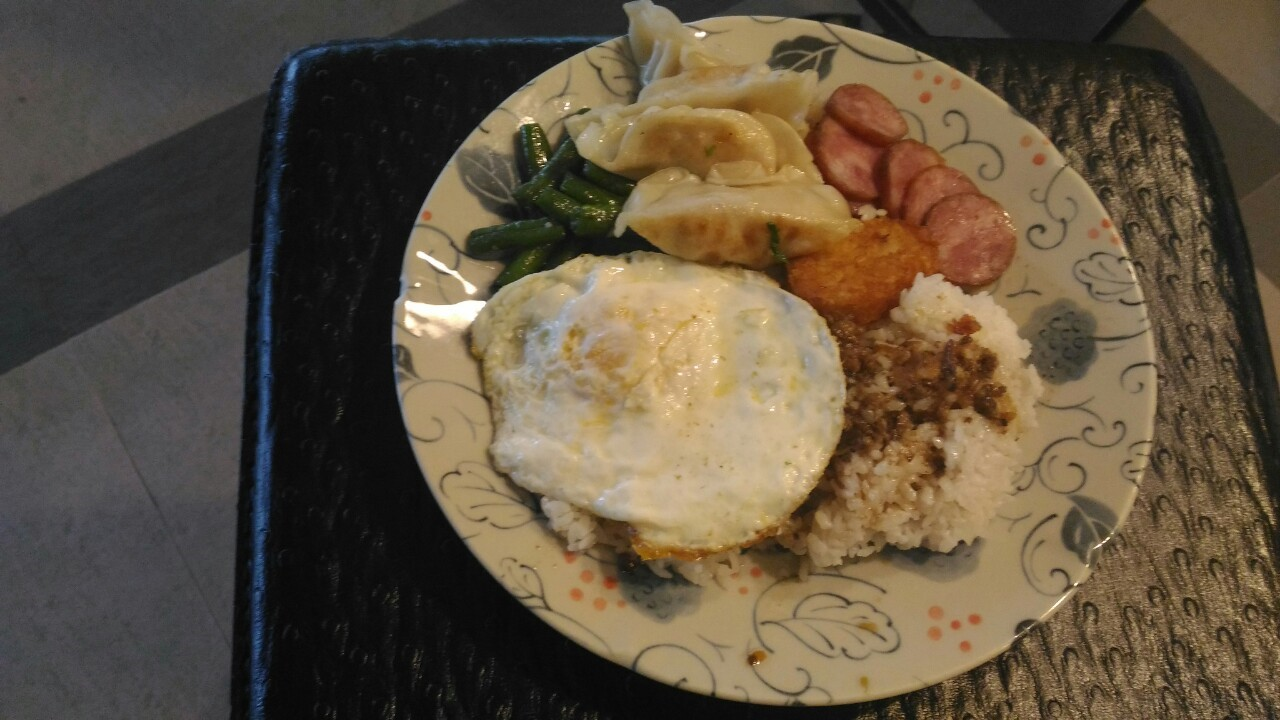chinese_sausage: (818, 81, 1022, 292)
fried_dumplings: (584, 7, 820, 267)
fried_eggs: (467, 248, 853, 559)
rice: (840, 280, 1050, 574)
triangle_hash_brown: (792, 214, 939, 323)
